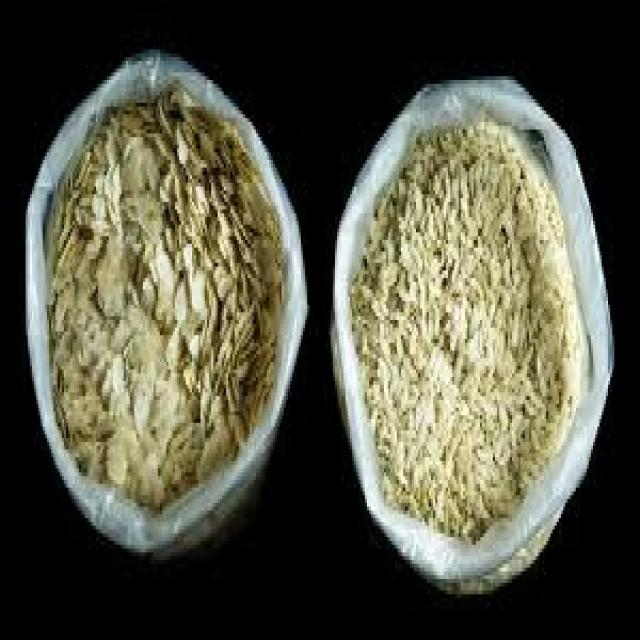POHA: (354, 124, 595, 529), (52, 114, 289, 521)
